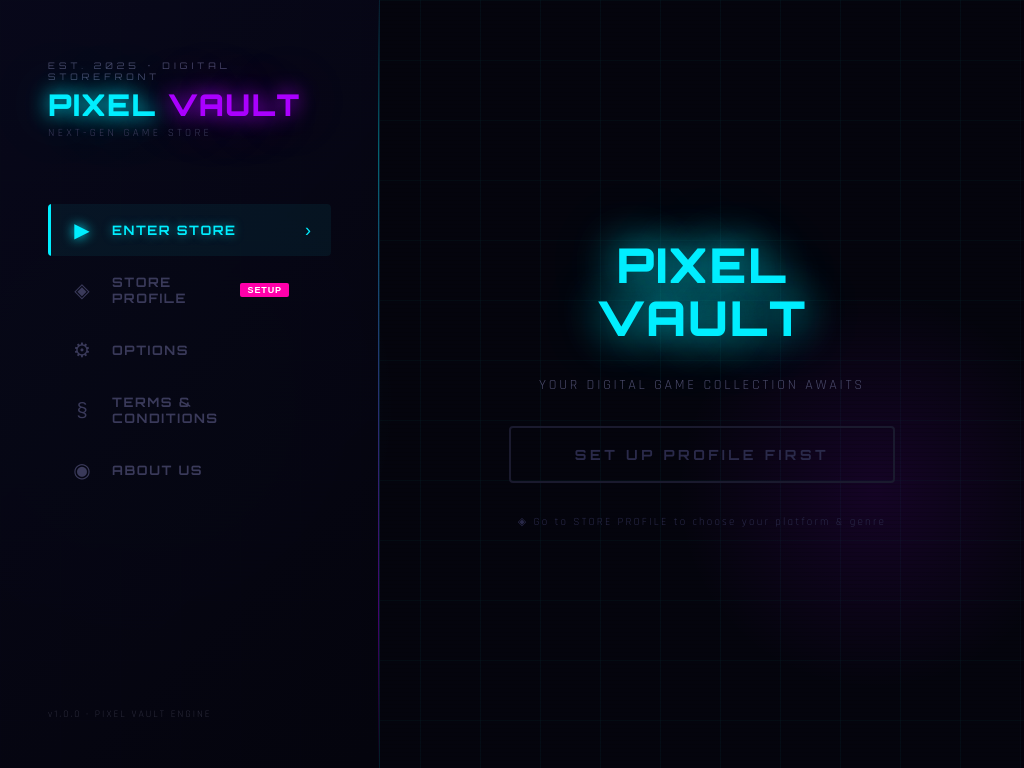
Test: SelectionScreen › switching to Options tab shows the Graphics option
Click the button "⚙ Options".
click(190, 350)  # box [48,324,331,376]
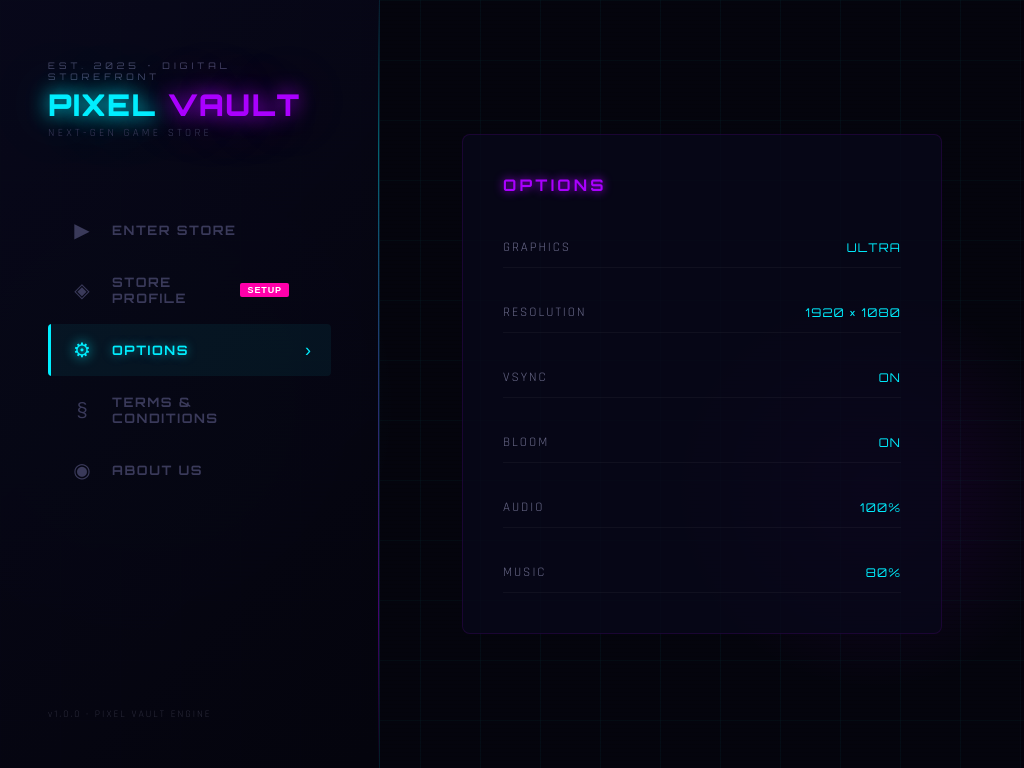
Expected: the text "Graphics" is shown, [503,239,571,255]
